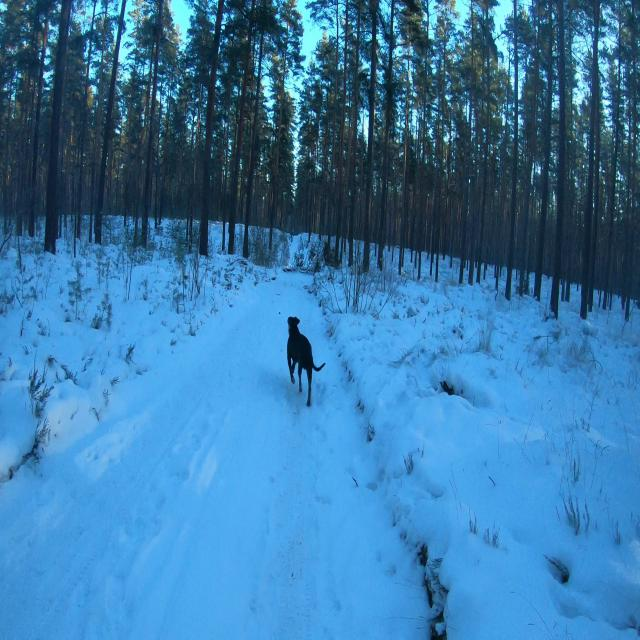bush: (169, 219, 187, 263)
trees: (269, 0, 302, 249), (95, 0, 126, 244), (228, 0, 255, 254), (45, 0, 71, 254), (199, 0, 224, 256), (581, 0, 600, 319), (534, 0, 553, 301), (74, 0, 97, 239), (142, 0, 163, 247), (28, 7, 49, 237), (243, 31, 264, 258), (551, 0, 566, 317), (378, 0, 394, 270), (431, 27, 447, 282), (476, 0, 490, 282), (505, 0, 518, 300), (363, 0, 377, 271), (605, 57, 620, 294), (398, 34, 411, 274), (459, 106, 472, 284), (330, 0, 339, 214), (187, 106, 200, 247), (141, 41, 154, 152), (468, 166, 478, 285), (624, 105, 631, 269), (163, 75, 173, 186), (128, 41, 137, 133), (632, 46, 637, 210), (422, 84, 428, 163), (446, 140, 452, 217), (305, 148, 310, 209), (630, 0, 636, 45), (474, 99, 478, 164), (310, 183, 315, 228), (313, 136, 318, 180), (418, 252, 422, 280), (624, 271, 629, 292), (198, 85, 202, 105), (158, 202, 162, 221), (328, 223, 332, 241), (127, 138, 131, 155), (449, 118, 451, 138), (309, 227, 310, 239)
